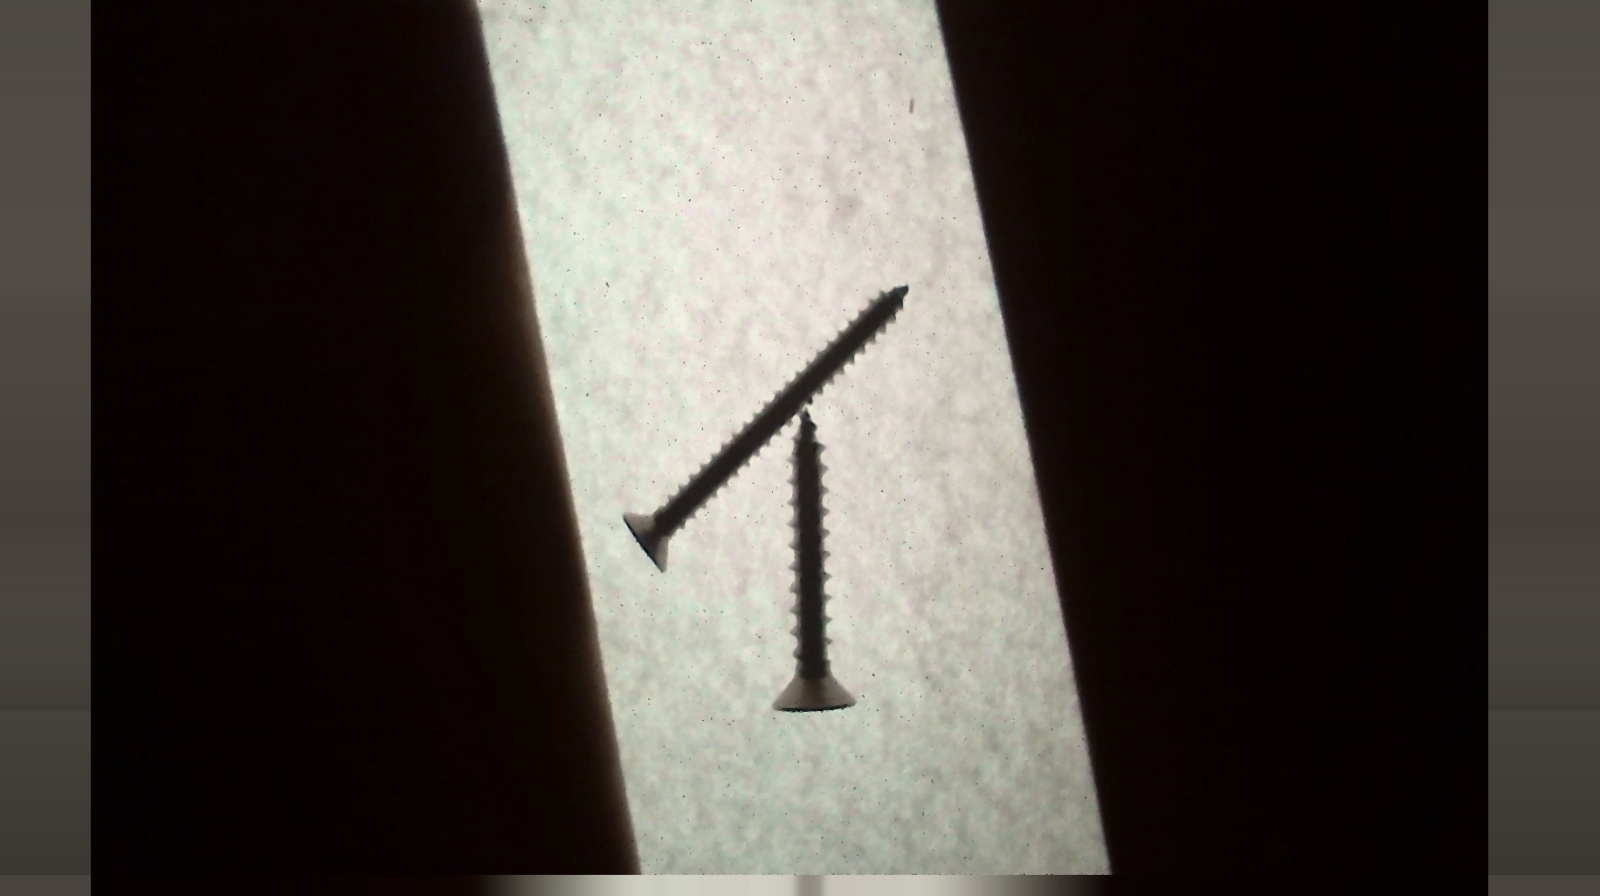S001: (765, 403, 859, 714)
S002: (619, 272, 916, 577)
